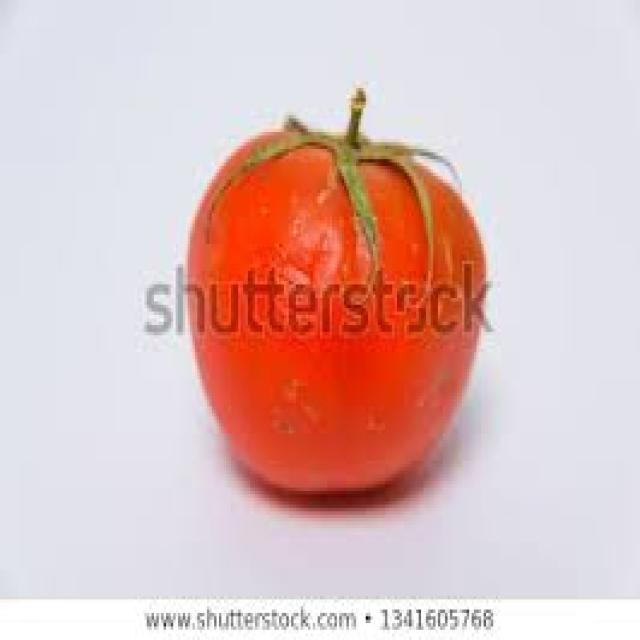biodegradable: (185, 88, 484, 488)
